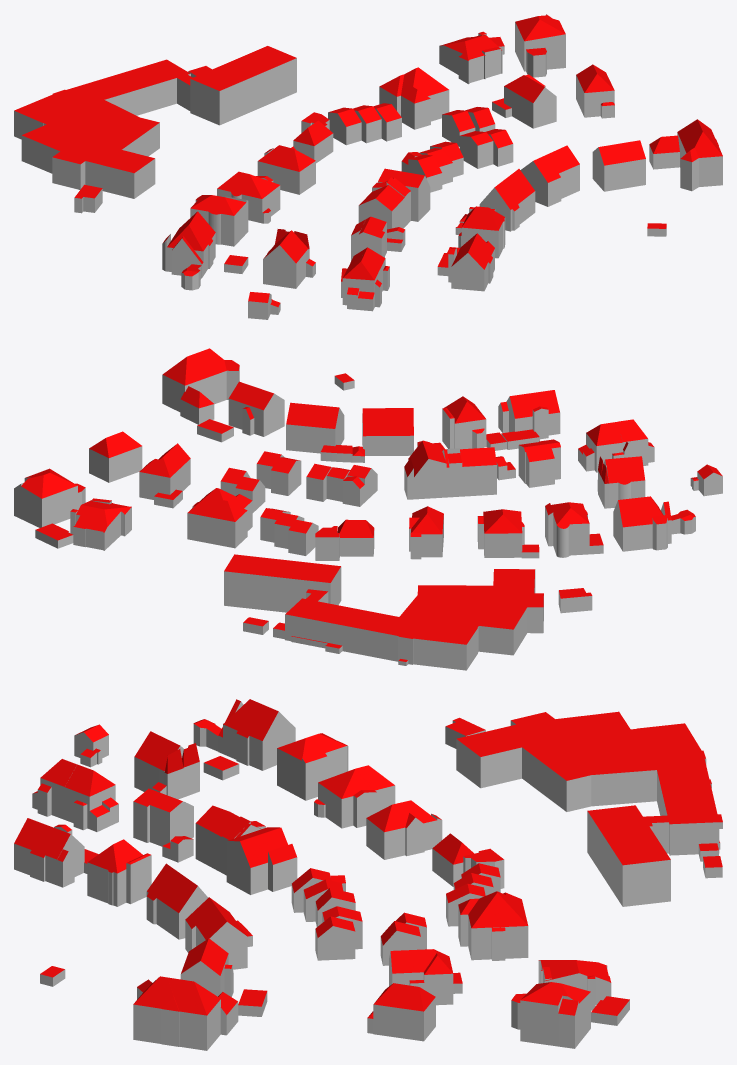
3 views of the same model, one above another, from view 1: azimuth 30°, elevation 25°; view 2: azimuth 150°, elevation 25°; view 3: azimuth 270°, elevation 25° (orthographic). The views are drawn at different scales.
Size of the model in its own units: 195 by 16.72 by 185.
